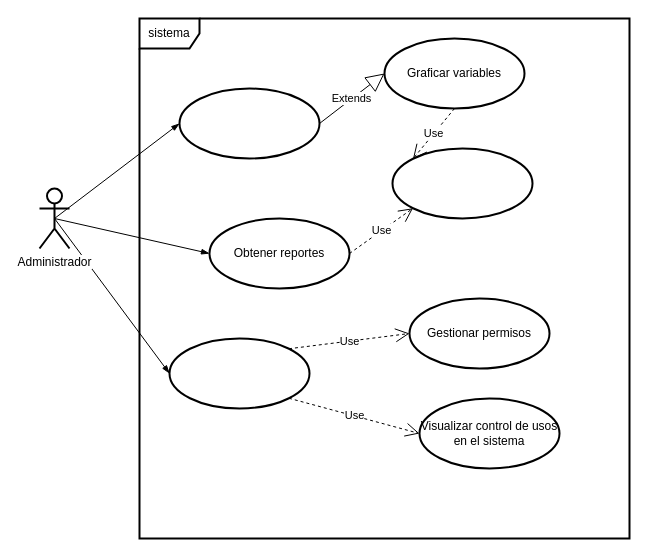
This 647x556 diagram has some shape labels left out. Each missing label, with the box of its shape:
Consultar información de modulos: (391, 147, 533, 219)
Gestionar modulos: (168, 337, 310, 409)
Graficar perdidas y ganancias: (178, 87, 320, 159)
